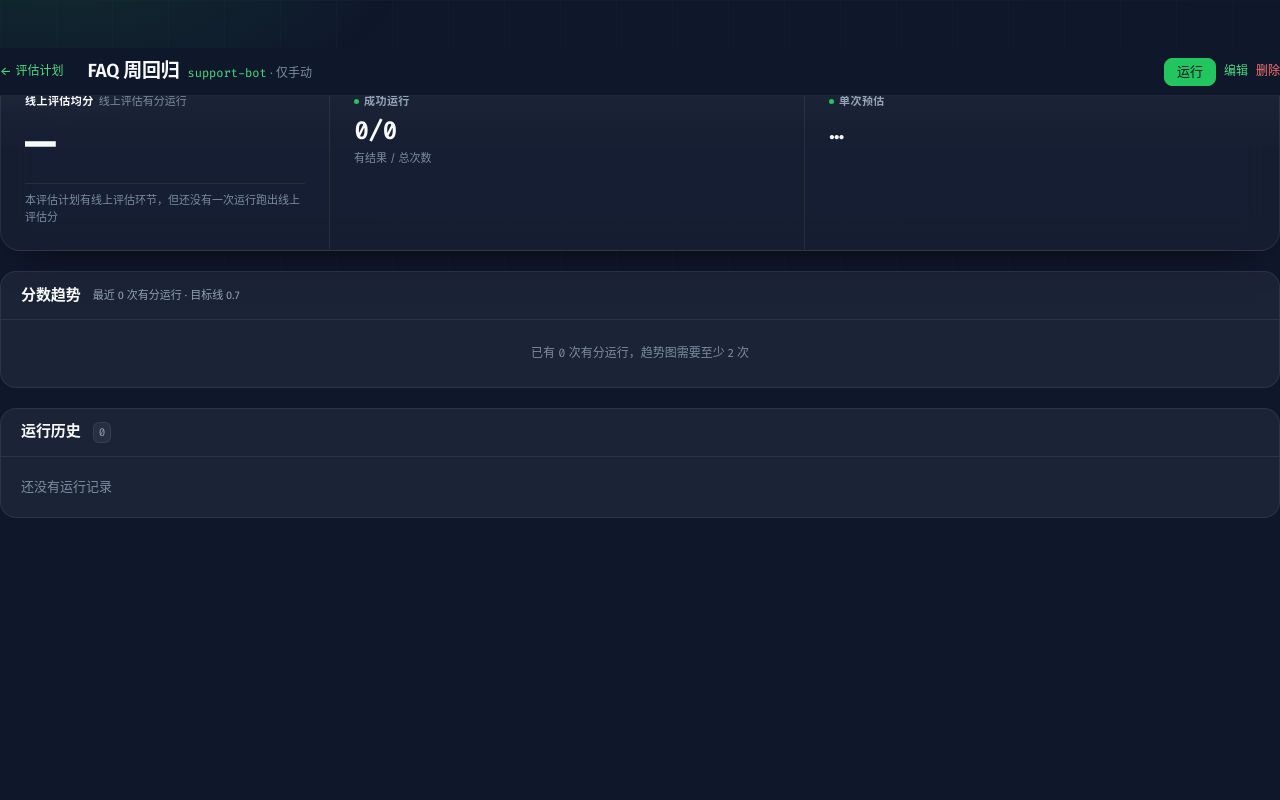
Test: PlanDetailPage 删除流程（ConfirmCard 替代 window.confirm） › 确认 → 发 delete_plan 并跳转工作台；卡随确认关闭
Check: the text "FAQ 周回归" is shown, box [88,59,180,82]
Click the button with test id "plan-delete": x=1268, y=72 [1256,63,1279,80]
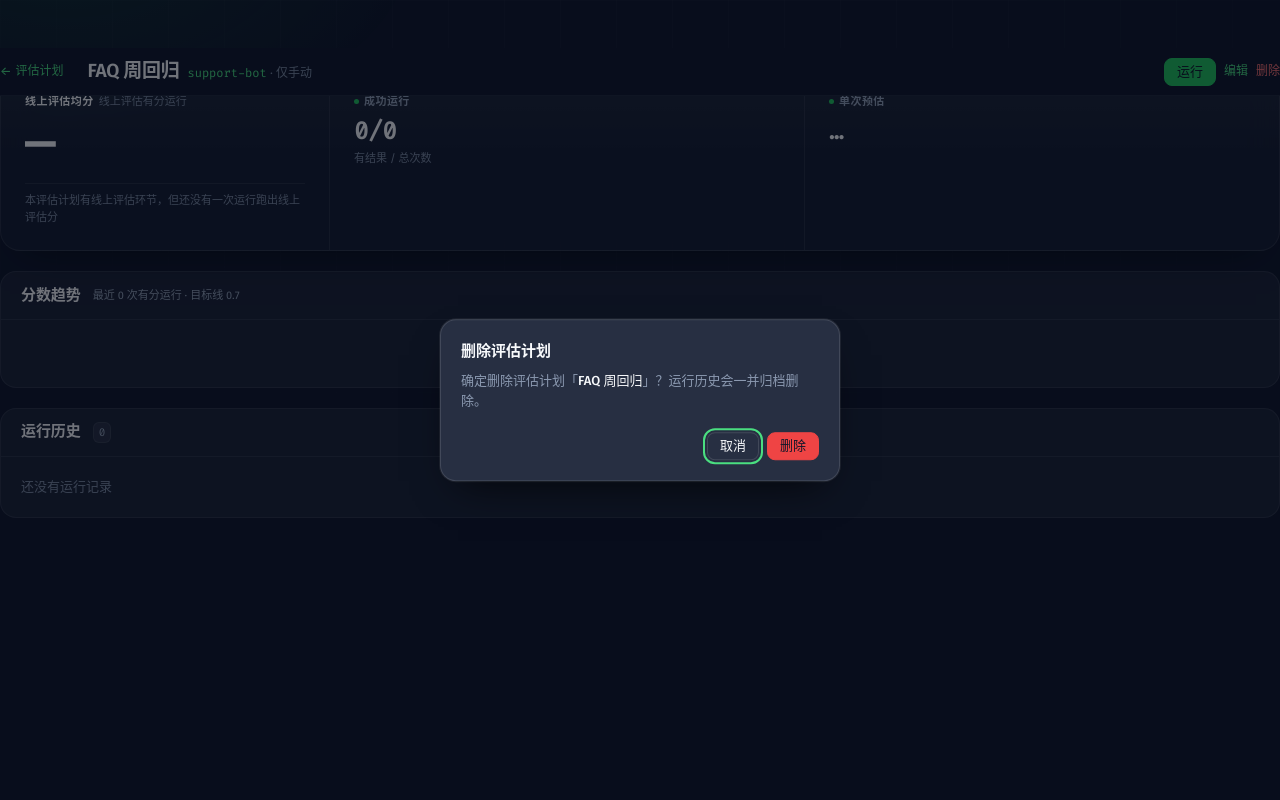
Click the button with test id "confirm-card-ok": x=793, y=446 [767,432,819,460]
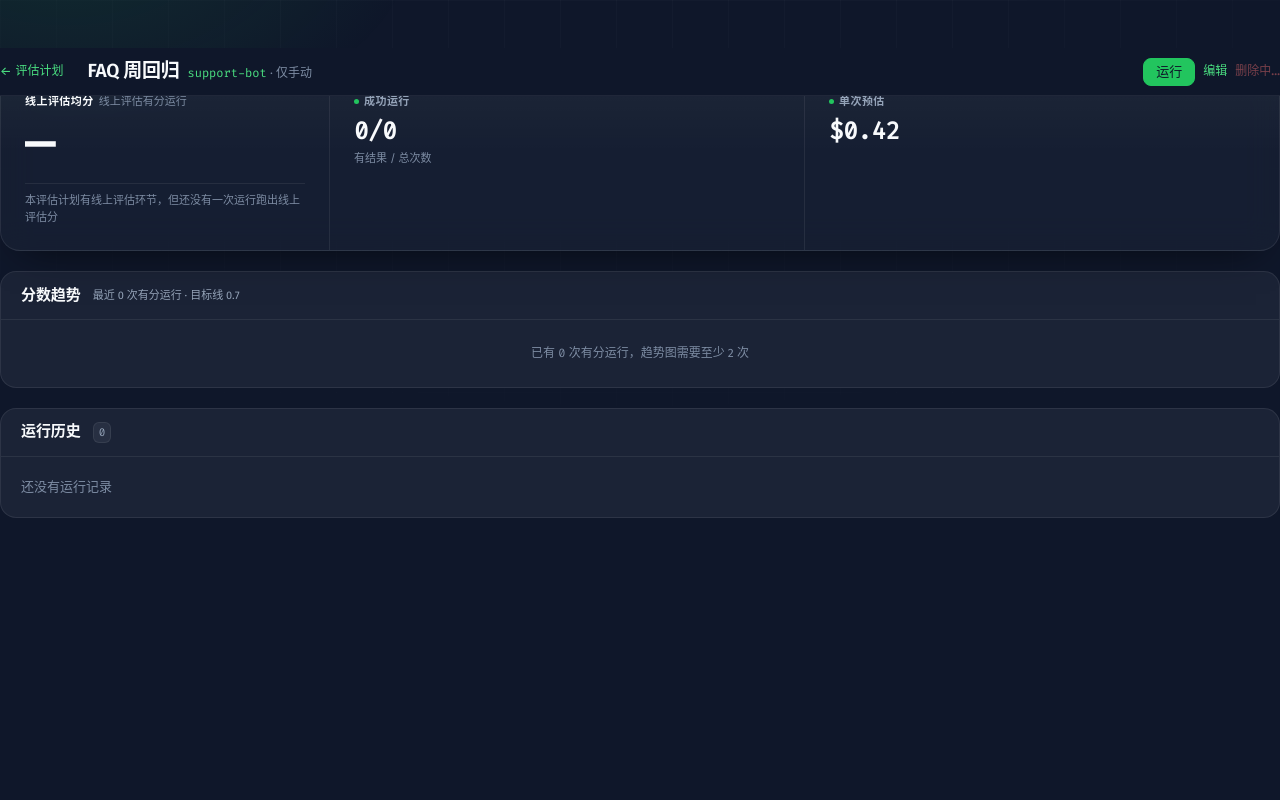
Check: the dialog with test id "confirm-card" is gone
